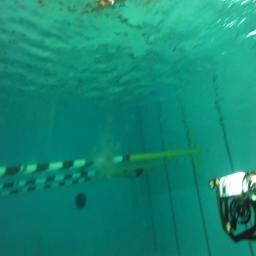front: (208, 170, 256, 245)
